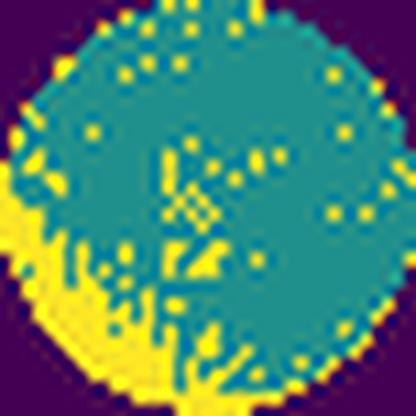Edge-Loc: (0, 153, 286, 416)
